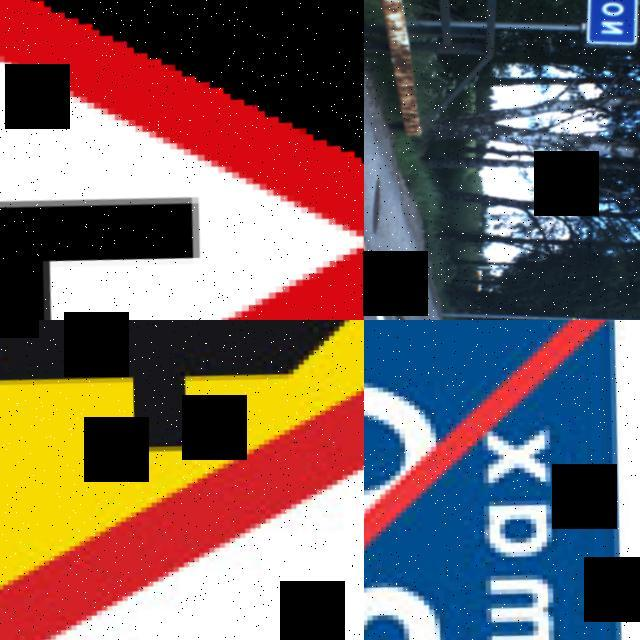103: (364, 320, 640, 640)
166: (0, 320, 364, 640)
88: (571, 0, 640, 60)
Side road junction: (0, 0, 364, 320)
